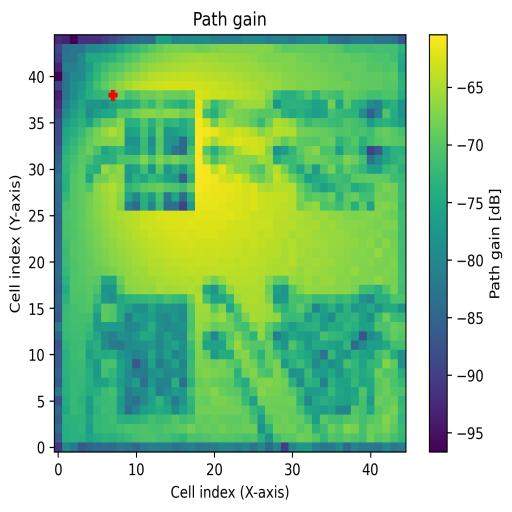Concrete: (297, 90, 374, 211)
Glass: (123, 90, 195, 210)
Metal: (289, 295, 375, 414)
Wood: (117, 294, 194, 415)
